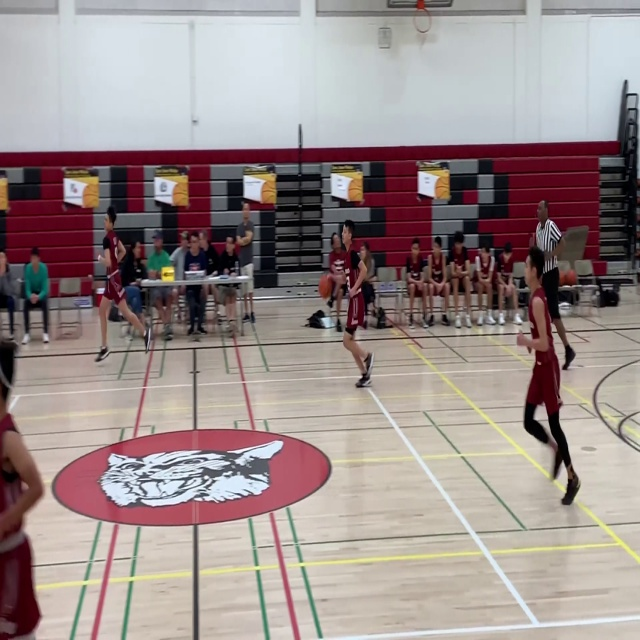Basketball: (318, 274, 334, 298)
